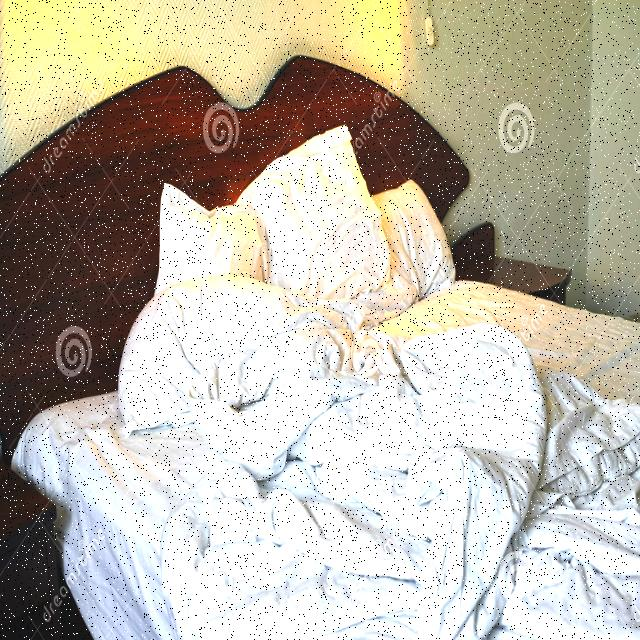bed: (20, 123, 640, 640)
